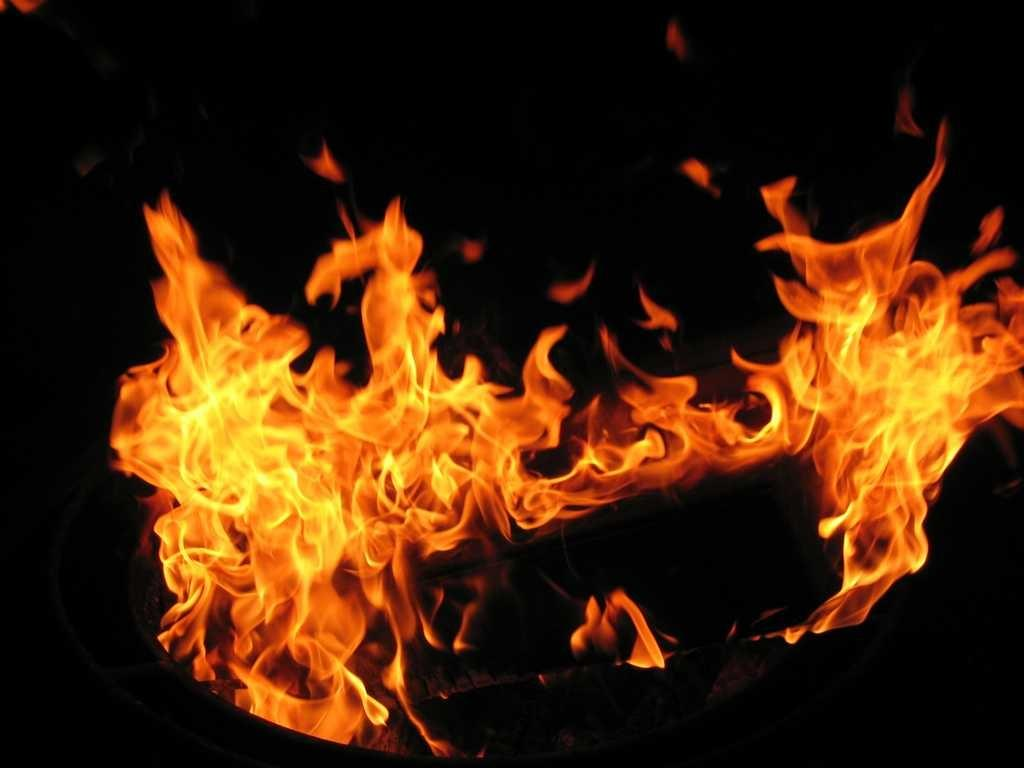fire: (170, 316, 464, 698), (788, 240, 1004, 532)
